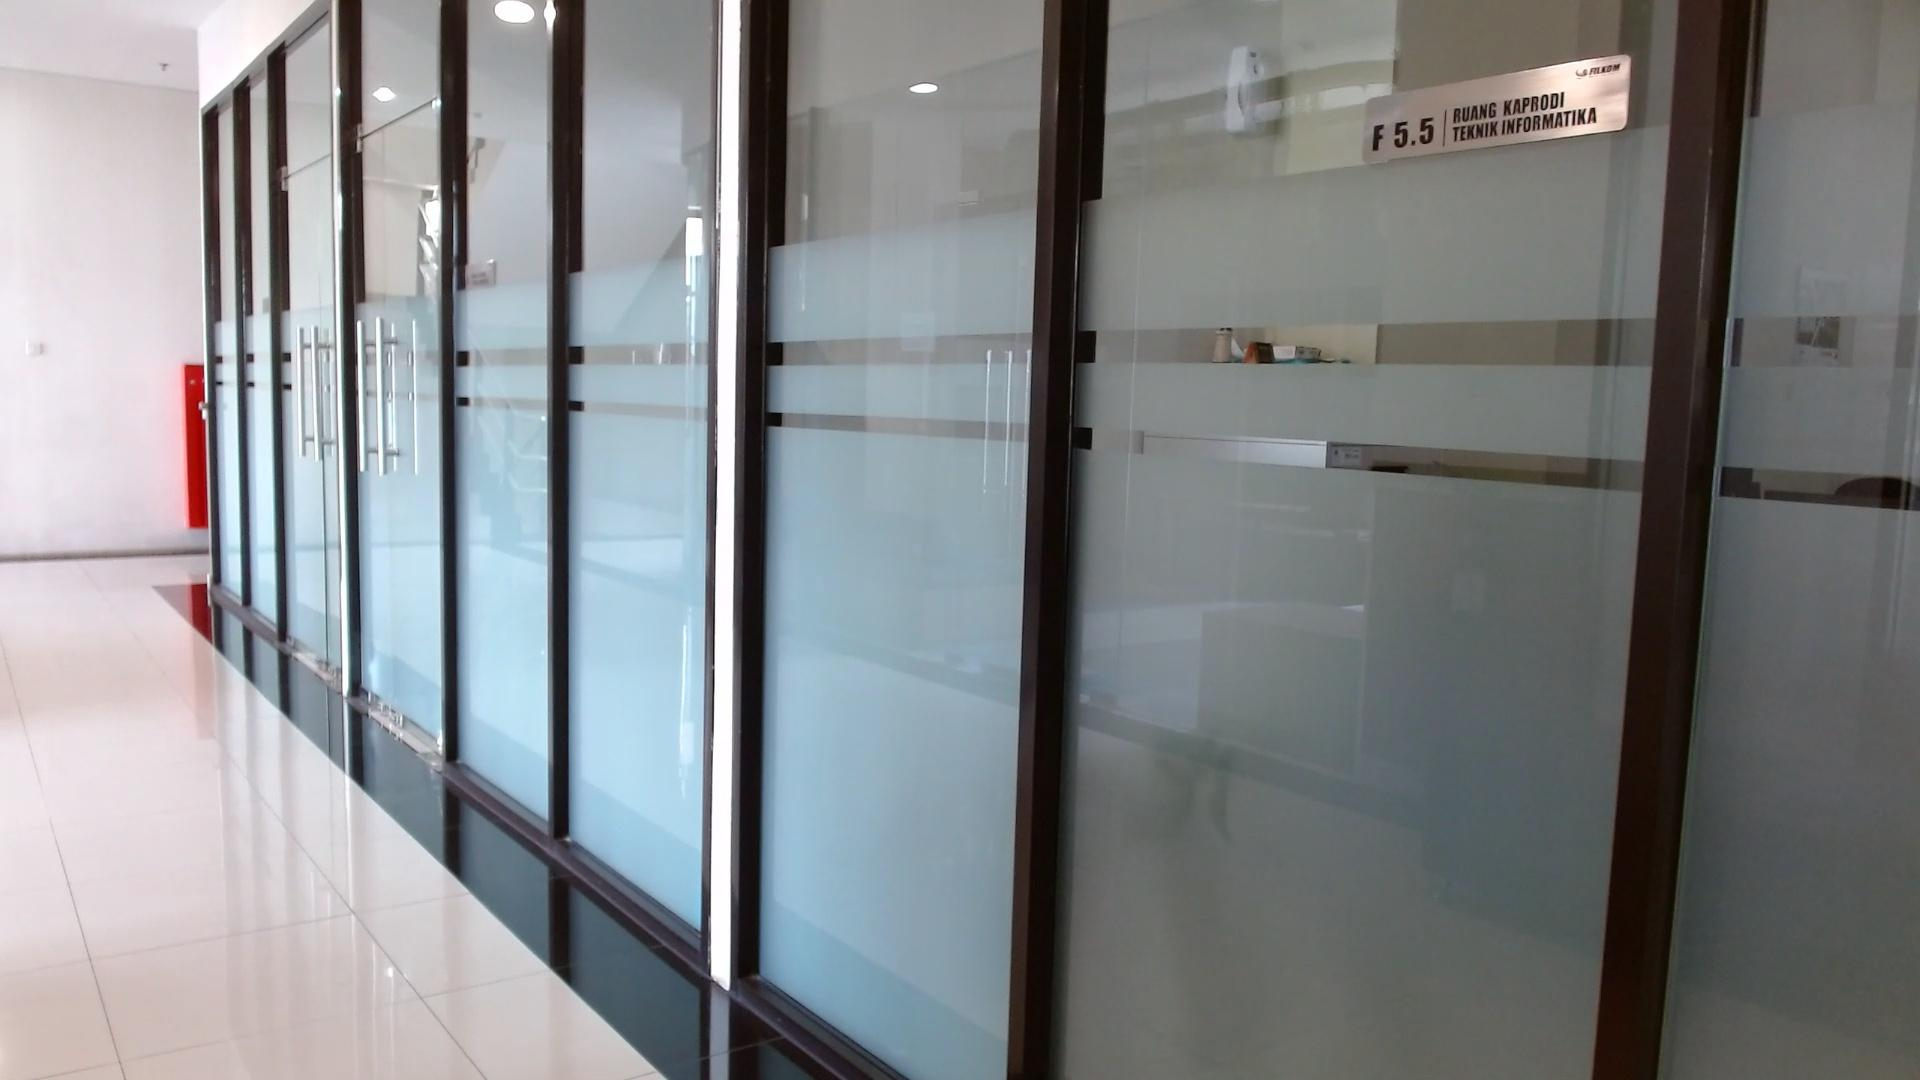plate: (1361, 54, 1631, 164)
